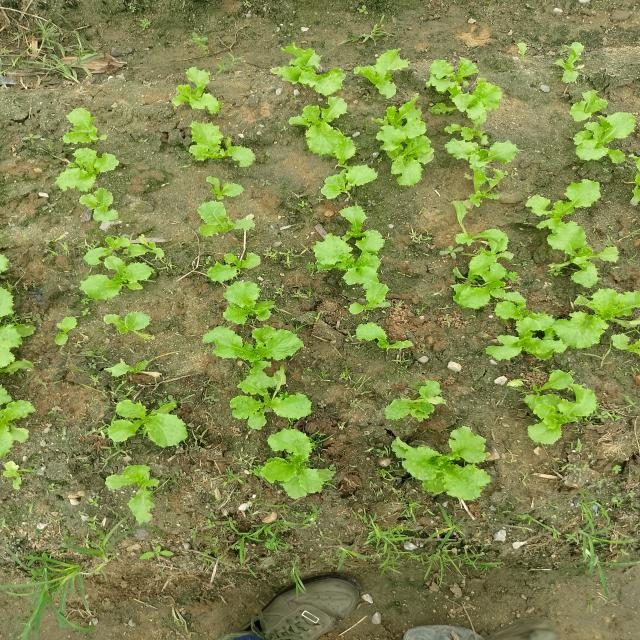Lettuce: (67, 234, 182, 314), (250, 443, 363, 514), (398, 432, 505, 501), (514, 374, 610, 444), (510, 206, 613, 268), (498, 301, 585, 368), (310, 223, 390, 291), (212, 326, 314, 378), (184, 188, 266, 251), (564, 97, 629, 169), (228, 382, 318, 430), (374, 115, 434, 184), (448, 135, 518, 194), (113, 401, 192, 452), (268, 41, 336, 100), (288, 94, 352, 156), (380, 361, 448, 418), (459, 239, 518, 303), (203, 272, 284, 318), (44, 100, 118, 149), (54, 147, 129, 195), (352, 48, 414, 102), (166, 65, 224, 121), (186, 123, 256, 169), (0, 273, 30, 372), (452, 78, 509, 126), (319, 161, 382, 202), (106, 463, 166, 505), (0, 382, 34, 451), (100, 308, 158, 345)
